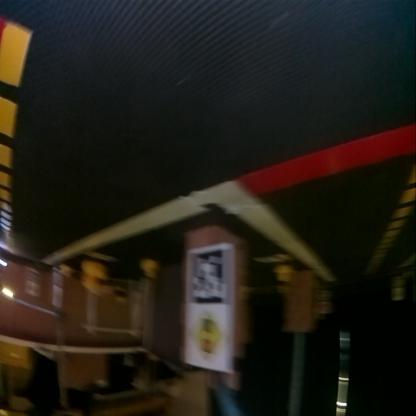Duckie: (81, 262, 103, 288), (274, 266, 292, 283), (141, 260, 156, 279), (60, 265, 70, 277)
QR code: (191, 250, 226, 302)
Signal sign: (187, 310, 223, 360)
